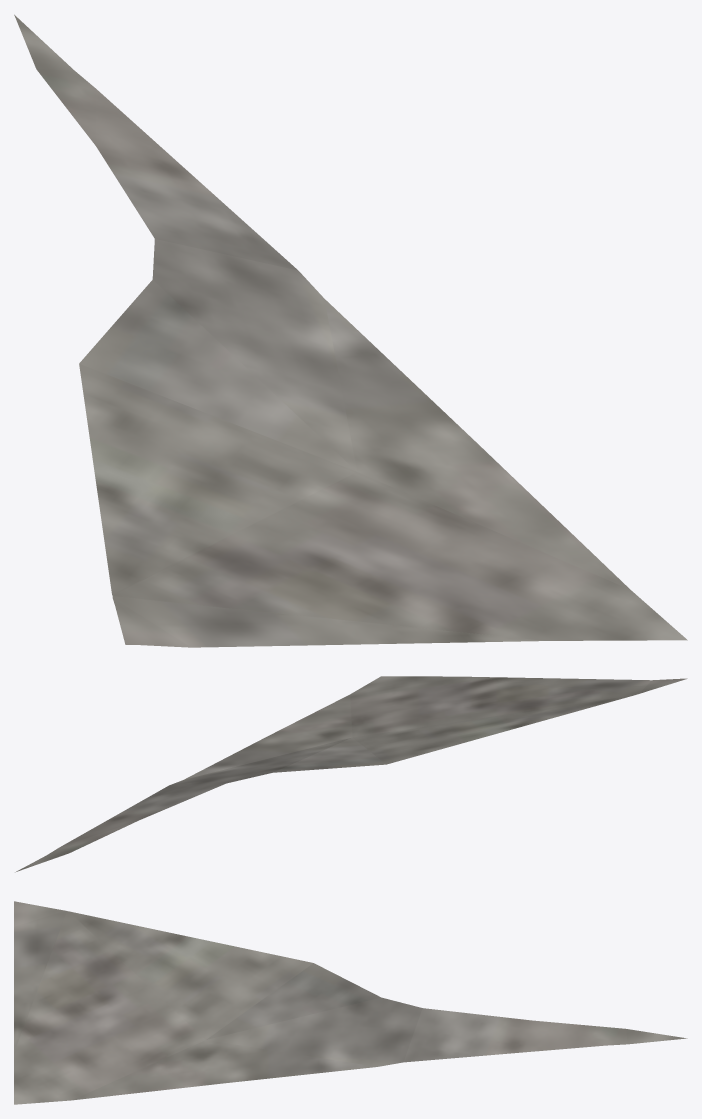
3 renders of one model, top to bottom at view 1: azimuth 30°, elevation 25°; view 2: azimuth 150°, elevation 25°; view 3: azimuth 270°, elevation 25°, orthographic. The views are drawn at different scales.
Bounding box in the file's own units: 0.361 × 0.0813 × 0.7492.
1 material, 1 textured.
